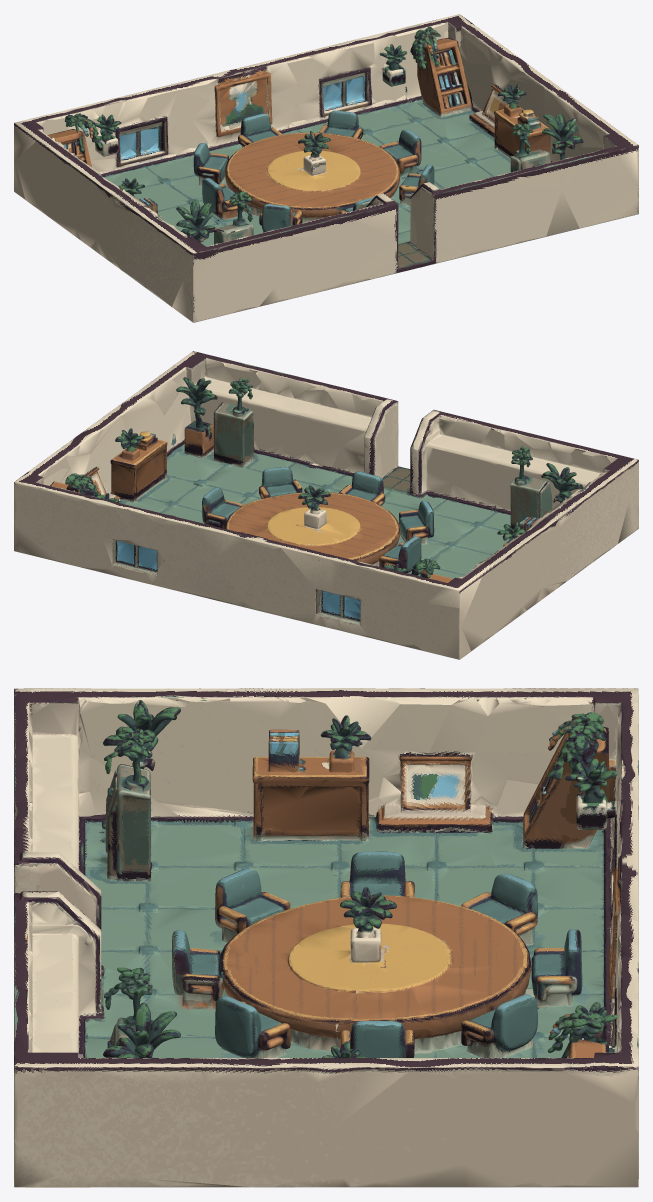
Rendered from scene-roundtable.glb.
3 renders of one model, top to bottom at view 1: azimuth 30°, elevation 25°; view 2: azimuth 150°, elevation 25°; view 3: azimuth 270°, elevation 25°, orthographic. The views are drawn at different scales.
Visible parts, largest first — view 1: Mesh_0; view 2: Mesh_0; view 3: Mesh_0.
Boxes of the visible parts, left/top/right/bottom form: Mesh_0: left=14, top=14, right=638, bottom=322; Mesh_0: left=14, top=351, right=638, bottom=659; Mesh_0: left=14, top=688, right=638, bottom=1187.
Size of the model in its own units: 1.9 by 0.3475 by 1.33.
Materials: 1 (1 with a texture image).
